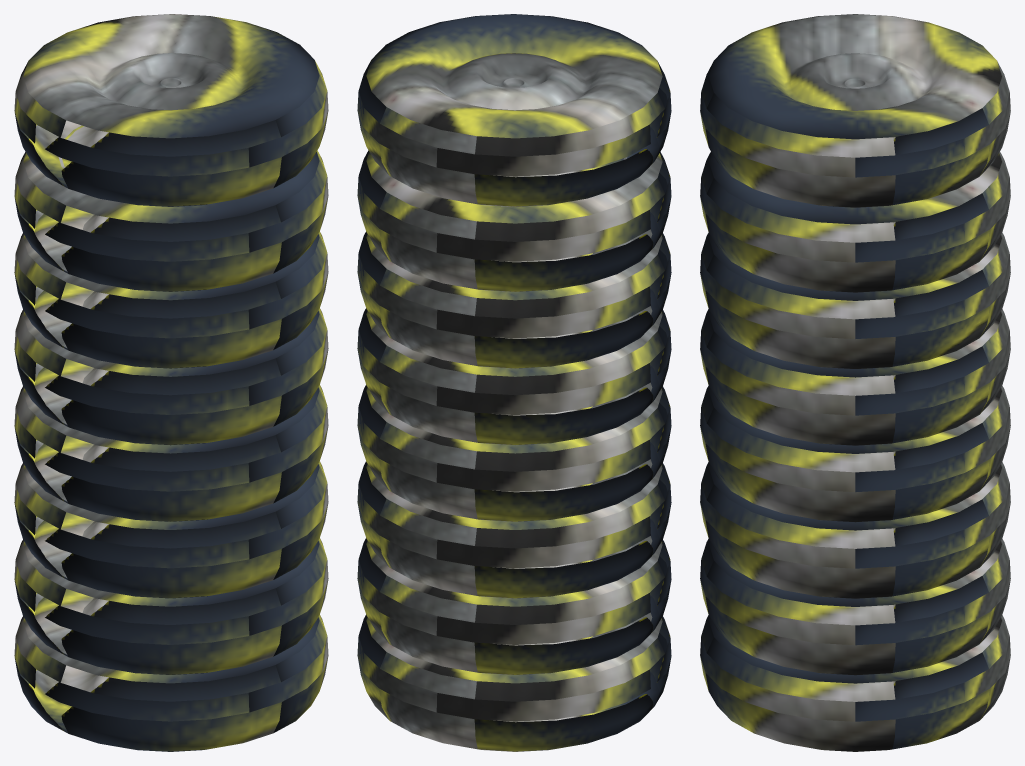
The model's file is luntai.FBX.
3 renders of one model, left to right at view 1: azimuth 30°, elevation 25°; view 2: azimuth 150°, elevation 25°; view 3: azimuth 270°, elevation 25°, orthographic.
Parts seen in each view (by area): view 1: Cylinder180, Cylinder179, Cylinder173, Cylinder175, Cylinder177, Cylinder174, Cylinder176, Cylinder178; view 2: Cylinder180, Cylinder179, Cylinder173, Cylinder175, Cylinder177, Cylinder174, Cylinder176, Cylinder178; view 3: Cylinder180, Cylinder179, Cylinder173, Cylinder177, Cylinder178, Cylinder175, Cylinder176, Cylinder174.
Boxes of the visible parts, bbox=[...] form: Cylinder180: bbox=[14, 14, 328, 206]; Cylinder179: bbox=[14, 125, 328, 291]; Cylinder173: bbox=[14, 589, 328, 751]; Cylinder175: bbox=[14, 435, 328, 598]; Cylinder177: bbox=[14, 282, 328, 445]; Cylinder174: bbox=[14, 512, 328, 674]; Cylinder176: bbox=[14, 359, 328, 521]; Cylinder178: bbox=[14, 205, 328, 368]; Cylinder180: bbox=[357, 14, 671, 206]; Cylinder179: bbox=[357, 150, 671, 291]; Cylinder173: bbox=[357, 612, 671, 751]; Cylinder175: bbox=[357, 459, 671, 598]; Cylinder177: bbox=[357, 306, 671, 445]; Cylinder174: bbox=[357, 536, 671, 674]; Cylinder176: bbox=[357, 382, 671, 521]; Cylinder178: bbox=[357, 229, 671, 368]; Cylinder180: bbox=[700, 14, 1010, 207]; Cylinder179: bbox=[700, 152, 1010, 292]; Cylinder173: bbox=[700, 615, 1010, 751]; Cylinder177: bbox=[700, 309, 1010, 445]; Cylinder178: bbox=[700, 232, 1010, 368]; Cylinder175: bbox=[700, 462, 1010, 598]; Cylinder176: bbox=[700, 385, 1010, 522]; Cylinder174: bbox=[700, 539, 1010, 675].
Size of the model in its own units: 53.16 by 52.52 by 117.
